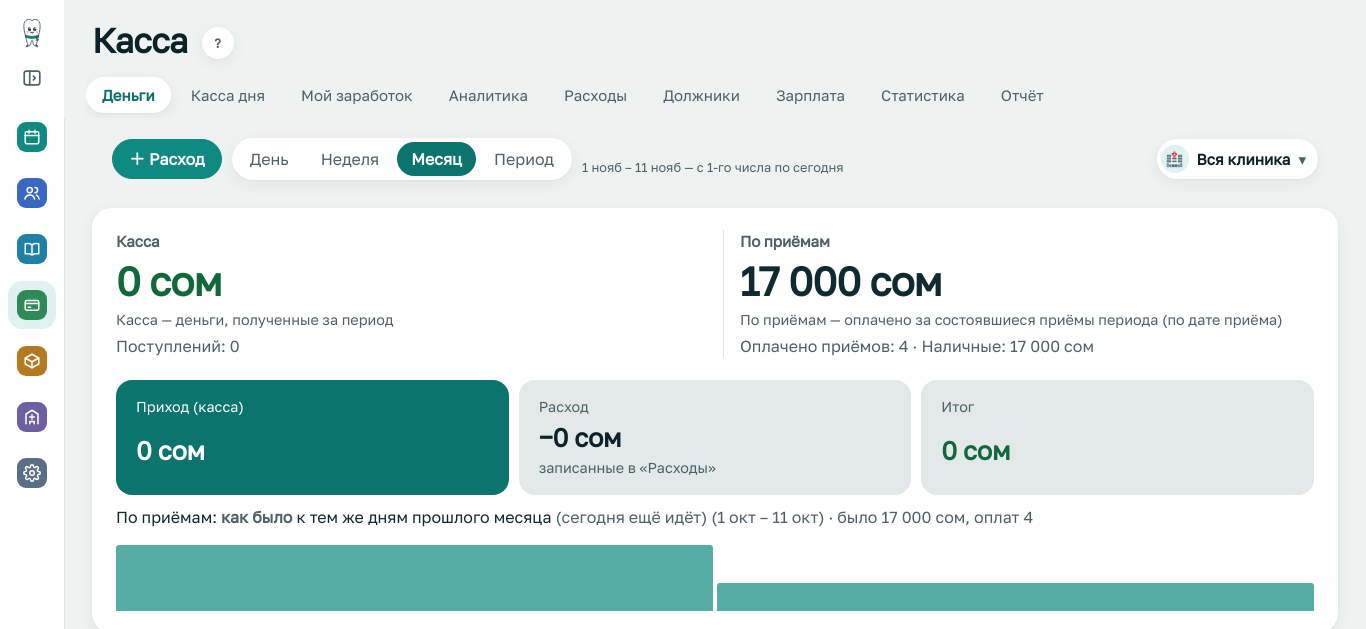
аналитика: выручка по дням — среднее, лучший день, пустые дни нулём, клавиатура
Later steps or results of the test are not shown.
Expected: the navigation bar named "Разделы" is shown, [8,113,56,497]
Click the link "Аналитика" at coordinates (488, 95), box [449,86,528,104]
(page scrolled)
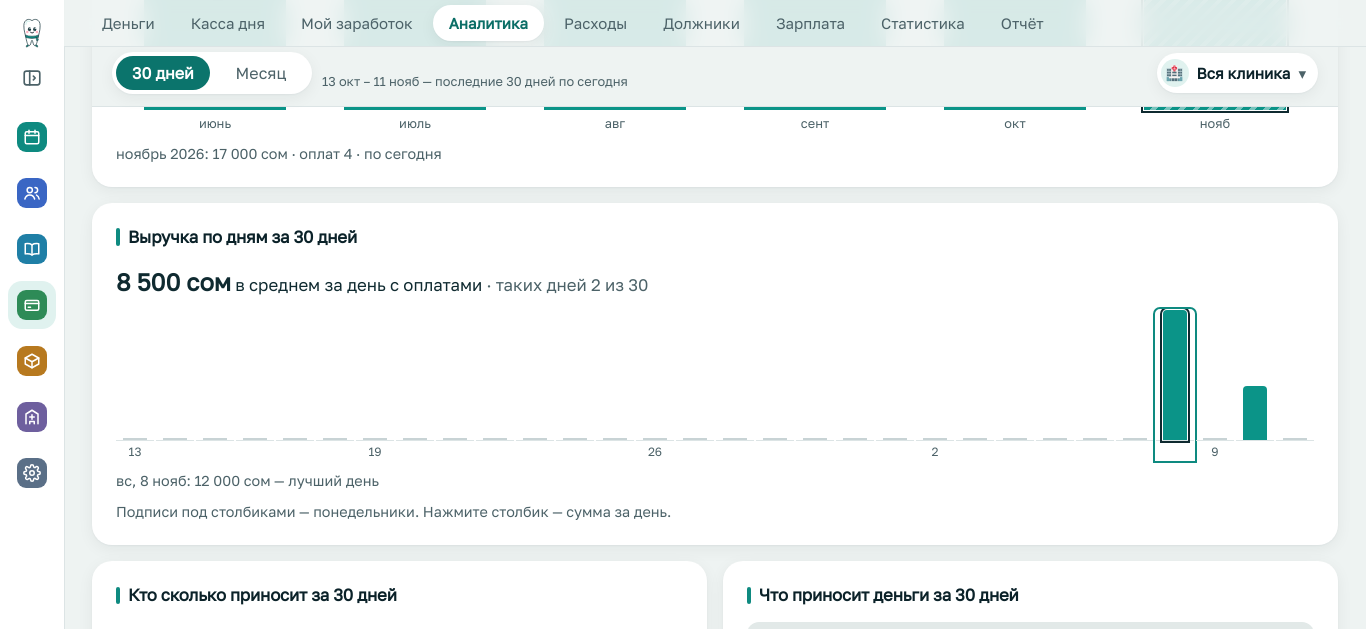
Expected: the element named "Среднее за день" reads "8 500 сом в среднем за день с оплатами · таких дней 2 из 30", [116,267,648,296]
Expected: the text "— лучший день" is shown, [270,472,379,489]
